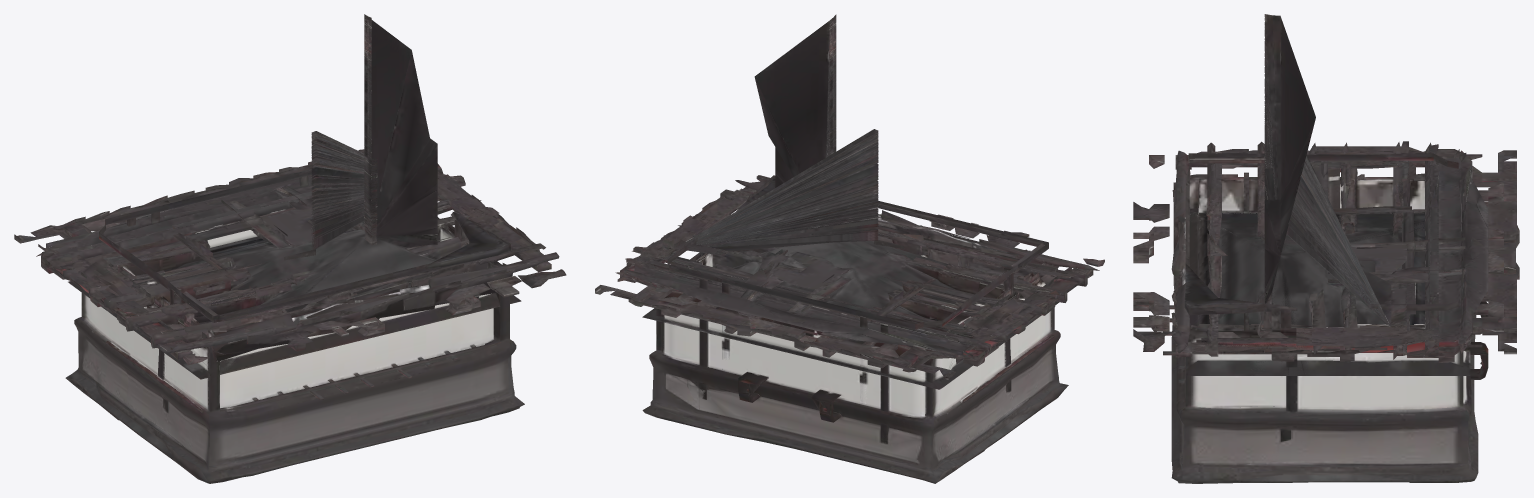
File: keep-tier.opt.glb
3 views of the same model, side by side, from view 1: azimuth 30°, elevation 25°; view 2: azimuth 150°, elevation 25°; view 3: azimuth 270°, elevation 25° (orthographic). The views are drawn at different scales.
Bounding box in the file's own units: 1.96 × 1.8 × 1.53.
1 material, 1 textured.
